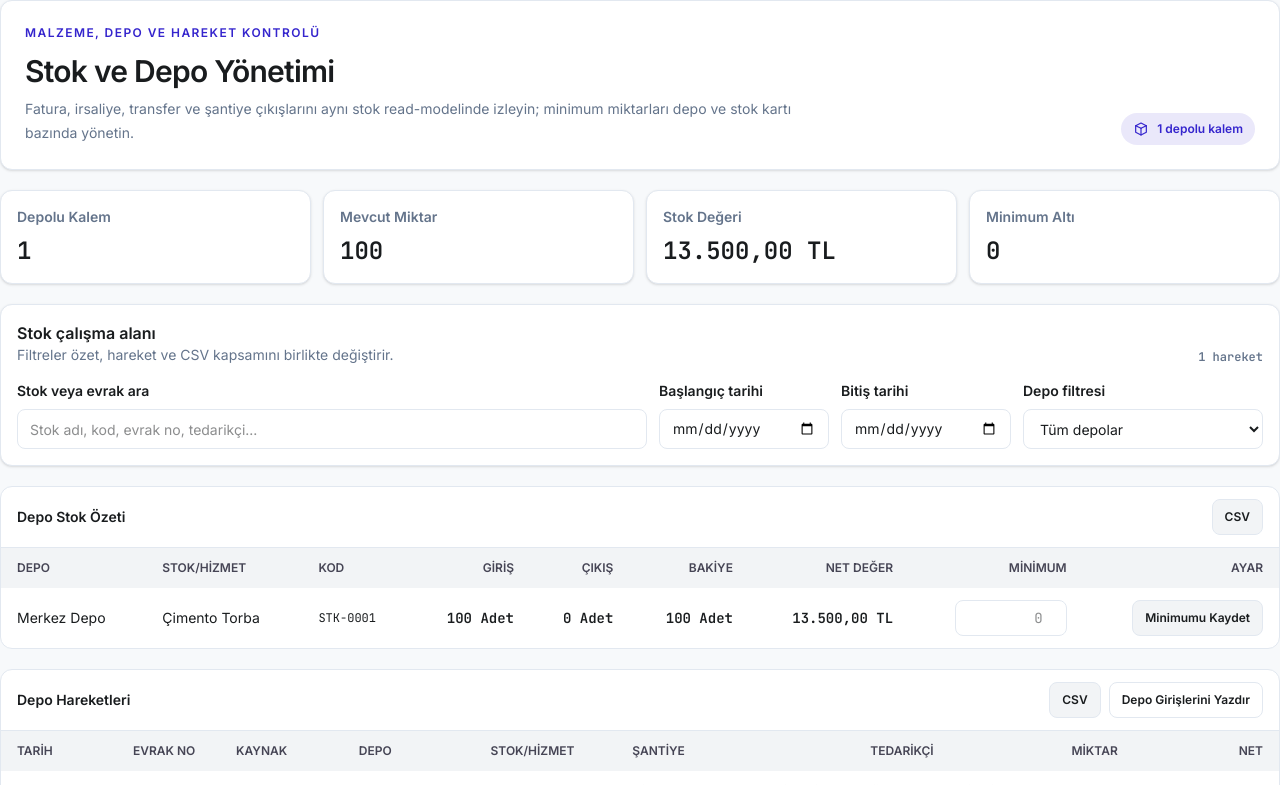
StockDepotSurface › persists a minimum stock setting from the summary row
Type "120" into the number field named "STK-0001 minimum miktar". click: {"x": 1011, "y": 618}
box: [955,600,1067,636]
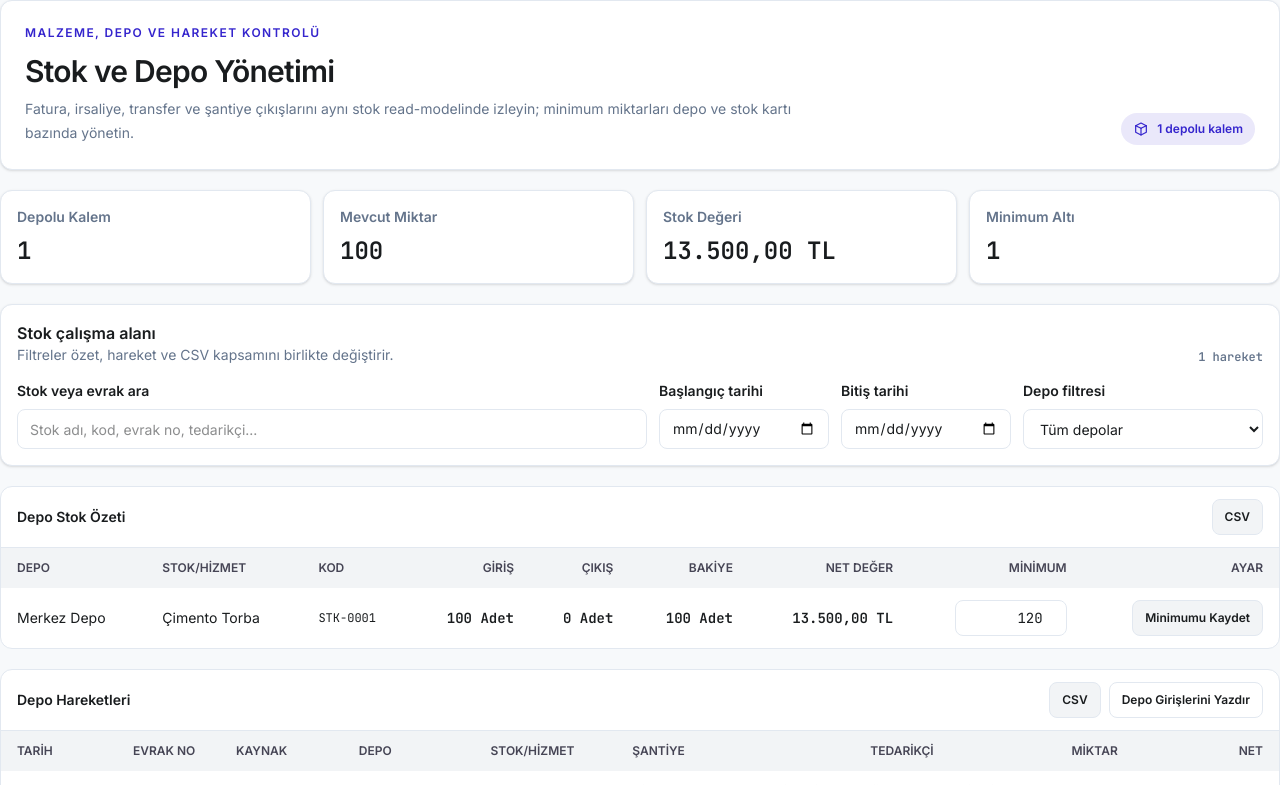
Click the button "Minimumu Kaydet". click: {"x": 1198, "y": 618}
box: [1132,600,1263,636]
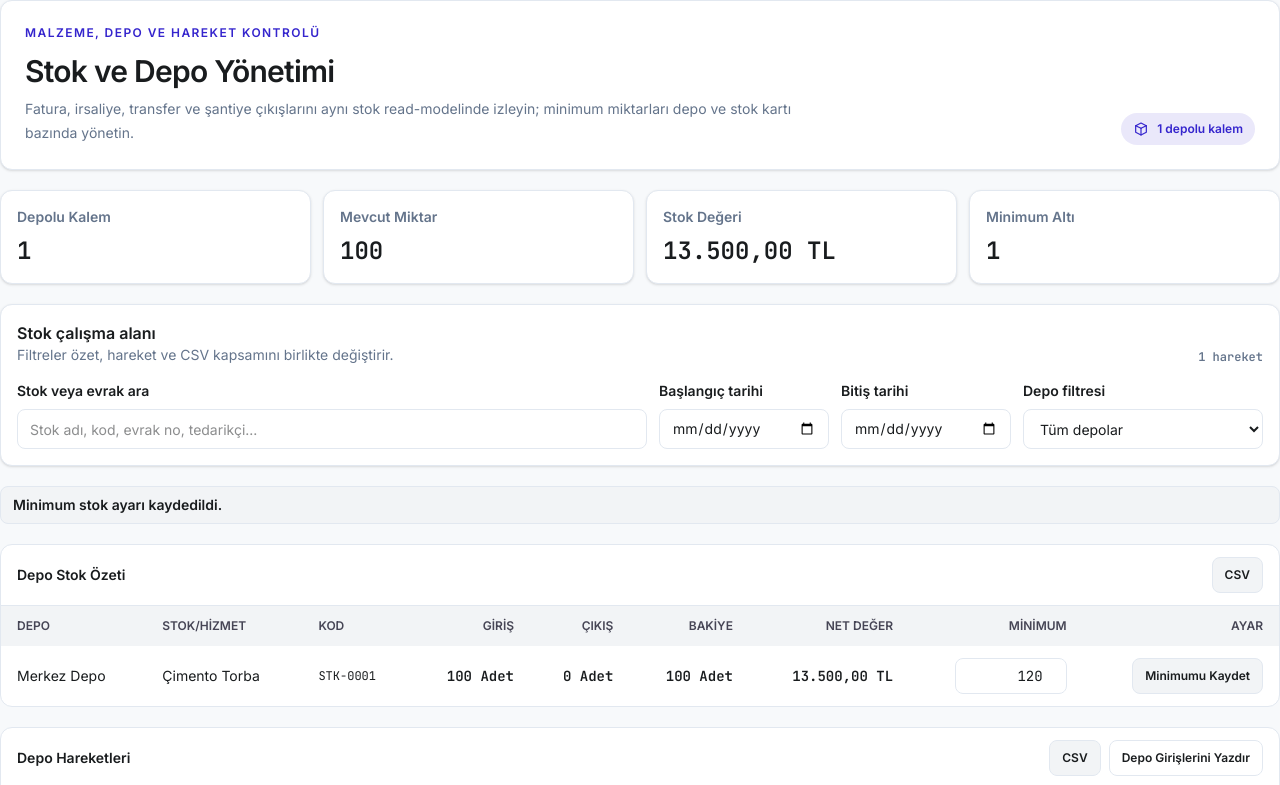
Check: the message reads "Minimum stok ayarı kaydedildi.", box [13,496,222,513]
